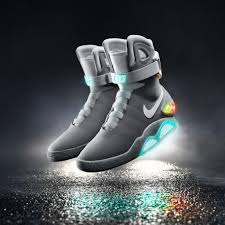nike: (139, 86, 167, 121)
